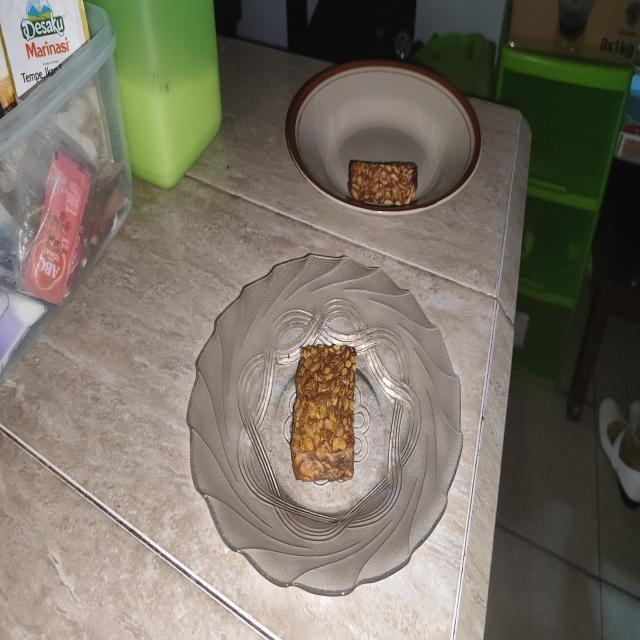tempe_goreng: (290, 344, 356, 484), (348, 160, 418, 206)
